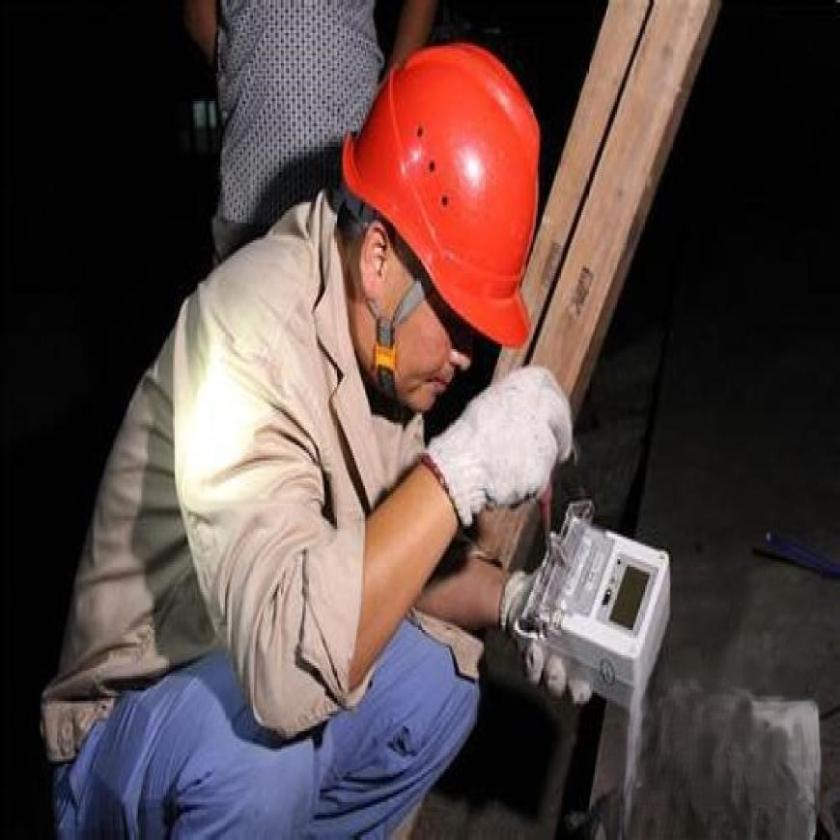Con_casco: (338, 18, 547, 451)
